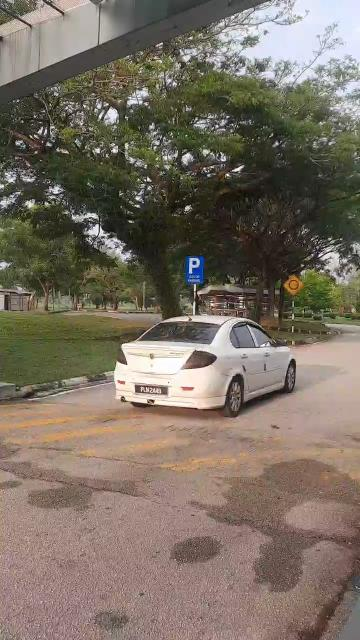License_Plate: (135, 382, 172, 398)
car: (108, 311, 300, 419)
